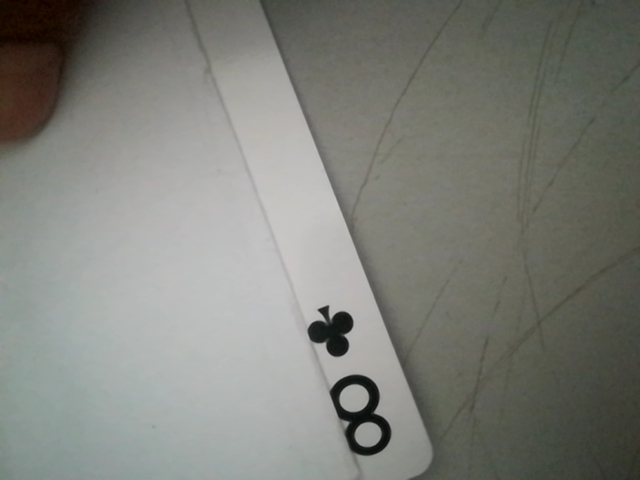mh 8: (299, 297, 414, 468)
